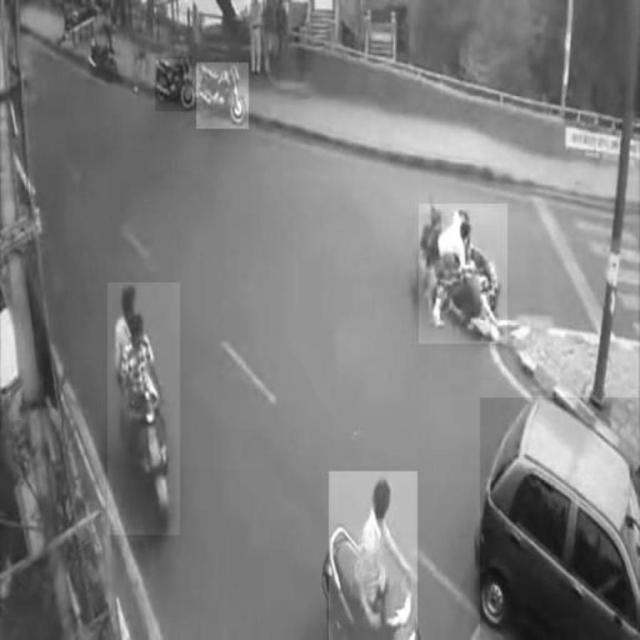accident: (419, 204, 507, 344)
vehicle: (480, 397, 640, 639), (107, 283, 180, 535), (330, 471, 418, 639), (197, 63, 249, 129), (155, 57, 192, 112)
